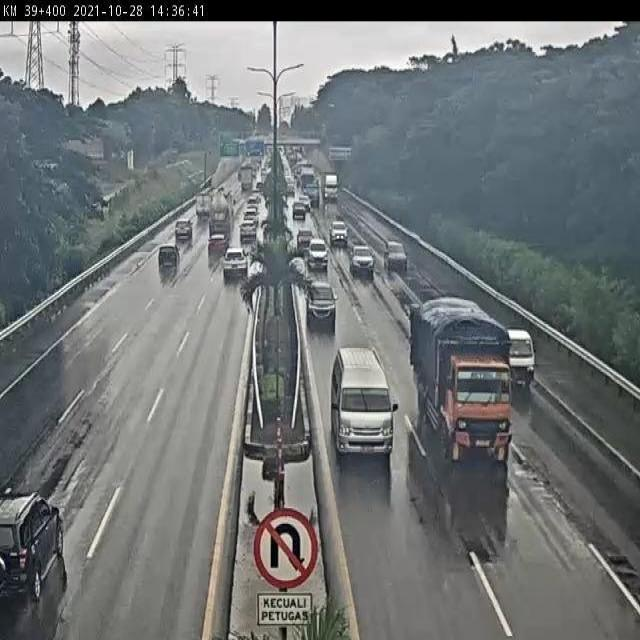ARABA: (493, 317, 525, 375)
KAMYONET: (407, 300, 514, 460)
OTOBUS: (330, 348, 398, 453)
TIR: (210, 191, 237, 244)
